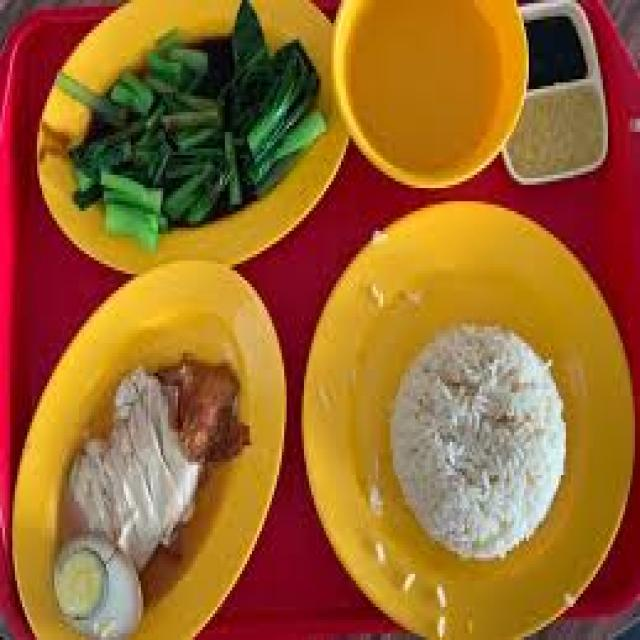Chicken: (67, 360, 247, 567)
Egg: (54, 534, 141, 637)
Green veg: (69, 0, 324, 247)
Rice: (390, 323, 563, 558)
